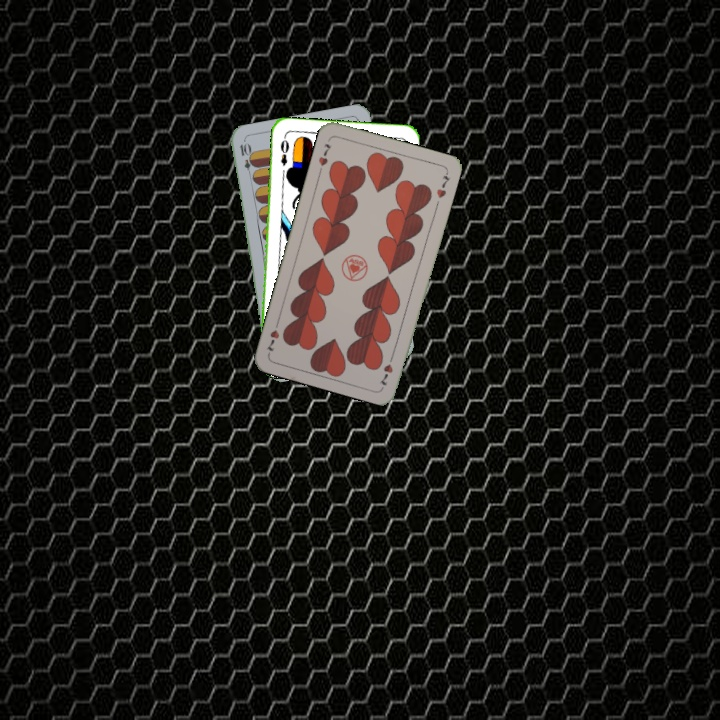E10: (236, 139, 255, 180)
EO: (277, 132, 291, 168)
H7: (376, 350, 397, 388), (314, 139, 334, 169)
